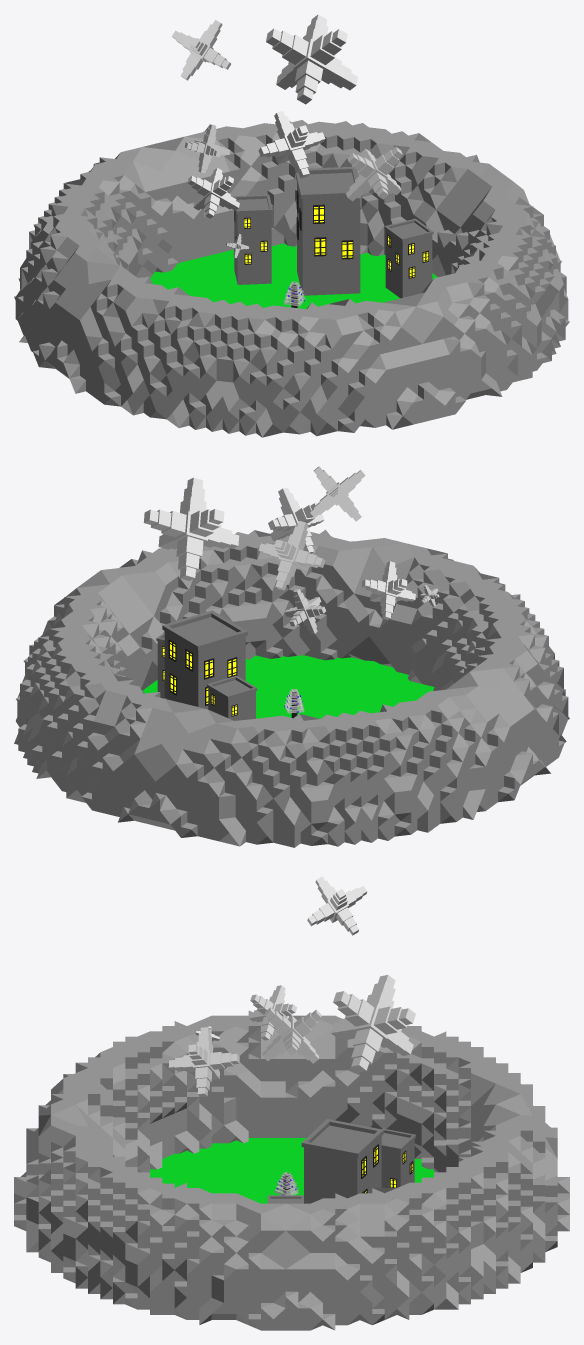
File: map2.fbx
The picture shows the model from 3 angles, top to bottom: view 1: azimuth 30°, elevation 25°; view 2: azimuth 150°, elevation 25°; view 3: azimuth 270°, elevation 25°; orthographic projection.
Parts seen in each view (by area): view 1: Torus, Cube.037, Plane, Cube.006, Cube.020, Cube.021, Cube.004, Cube.003, Cube.002, Cube.005, Cube.001; view 2: Torus, Plane, Cube.037, Cube.006, Cube.003, Cube.021, Cube.004, Cube.002, Cube.005, Cube.001; view 3: Torus, Plane, Cube.037, Cube.006, Cube.004, Cube.003, Cube.021, Cube.002, Cube.005.
Boxes of the visible parts, box(x1,y1,x2,y2) form: Torus: box(14, 120, 569, 437); Cube.037: box(295, 166, 362, 295); Plane: box(150, 243, 437, 308); Cube.006: box(266, 14, 357, 104); Cube.020: box(384, 218, 433, 298); Cube.021: box(233, 194, 272, 284); Cube.004: box(346, 147, 402, 201); Cube.003: box(258, 111, 325, 178); Cube.002: box(172, 20, 230, 80); Cube.005: box(187, 167, 239, 218); Cube.001: box(184, 124, 230, 173); Torus: box(14, 529, 569, 847); Plane: box(142, 655, 434, 718); Cube.037: box(162, 610, 247, 709); Cube.006: box(143, 477, 239, 580); Cube.003: box(258, 521, 325, 590); Cube.021: box(207, 675, 257, 720); Cube.004: box(268, 487, 324, 553); Cube.002: box(310, 466, 365, 521); Cube.005: box(361, 561, 415, 619); Cube.001: box(284, 589, 325, 634); Torus: box(14, 1010, 569, 1330); Plane: box(150, 1138, 435, 1203); Cube.037: box(301, 1119, 383, 1203); Cube.006: box(331, 975, 415, 1072); Cube.004: box(168, 1027, 239, 1096); Cube.003: box(262, 1007, 321, 1063); Cube.021: box(381, 1128, 415, 1187); Cube.002: box(307, 876, 367, 935); Cube.005: box(249, 985, 297, 1040).
Bounding box in the file's own units: 6447 × 3820 × 6447.
